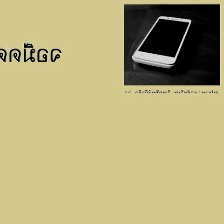phone: (130, 10, 195, 71)
